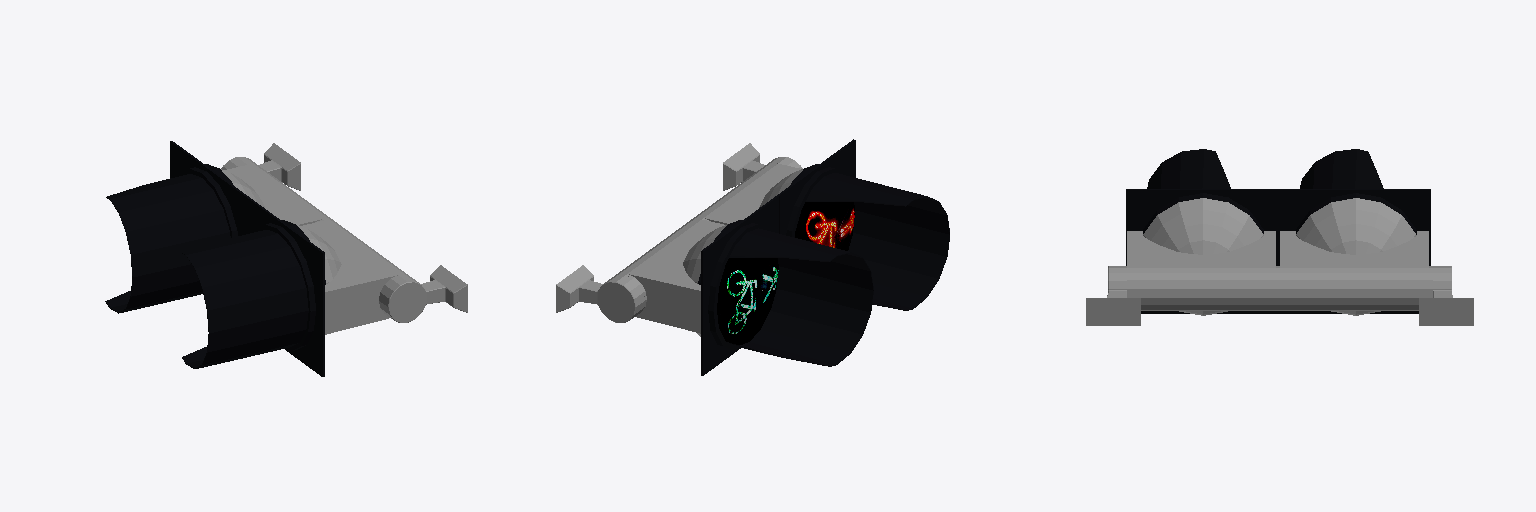
3 renders of one model, left to right at view 1: azimuth 30°, elevation 25°; view 2: azimuth 150°, elevation 25°; view 3: azimuth 270°, elevation 25°, orthographic.
Parts seen in each view (by area): view 1: Sonnenblende.002_Cylinder.002, Sonnenblende.001_Cylinder.002, Cube.004_Cube.002, Masthalterung_Cylinder.004, Blende.002_Cube.004, Cube.003_Cube.002, BezierCurve.020, Blende.001_Cube.004, Masthalterung.001_Cylinder.004, BezierCurve.018; view 2: Sonnenblende.001_Cylinder.002, Sonnenblende.002_Cylinder.002, BezierCurve.018, Cube.003_Cube.002, BezierCurve.020, Masthalterung.001_Cylinder.004, Blende.001_Cube.004, Cube.004_Cube.002, Blende.002_Cube.004, Masthalterung_Cylinder.004; view 3: Cube.003_Cube.002, Cube.004_Cube.002, BezierCurve.020, BezierCurve.018, Blende.001_Cube.004, Blende.002_Cube.004, Sonnenblende.002_Cylinder.002, Sonnenblende.001_Cylinder.002, Masthalterung.001_Cylinder.004, Masthalterung_Cylinder.004.
Part boxes in pixels (x1,y1,x2,y2): Sonnenblende.002_Cylinder.002: (182, 230, 308, 368); Sonnenblende.001_Cylinder.002: (105, 174, 230, 313); Cube.004_Cube.002: (302, 219, 409, 334); Masthalterung_Cylinder.004: (379, 265, 467, 322); Blende.002_Cube.004: (246, 196, 324, 376); Cube.003_Cube.002: (225, 163, 333, 225); BezierCurve.020: (254, 220, 341, 351); Blende.001_Cube.004: (170, 141, 247, 235); Masthalterung.001_Cylinder.004: (221, 143, 300, 190); BezierCurve.018: (177, 164, 264, 237); Sonnenblende.001_Cylinder.002: (729, 228, 873, 366); Sonnenblende.002_Cylinder.002: (806, 173, 949, 310); BezierCurve.018: (683, 220, 778, 350); Cube.003_Cube.002: (614, 219, 724, 333); BezierCurve.020: (759, 164, 854, 250); Masthalterung.001_Cylinder.004: (556, 265, 644, 322); Blende.001_Cube.004: (701, 195, 778, 375); Cube.004_Cube.002: (690, 163, 800, 224); Blende.002_Cube.004: (778, 139, 855, 234); Masthalterung_Cylinder.004: (723, 143, 802, 190); Cube.003_Cube.002: (1280, 231, 1432, 310); Cube.004_Cube.002: (1127, 231, 1279, 310); BezierCurve.020: (1143, 193, 1263, 315); BezierCurve.018: (1296, 193, 1416, 315); Blende.001_Cube.004: (1278, 189, 1430, 313); Blende.002_Cube.004: (1126, 189, 1277, 313); Sonnenblende.002_Cylinder.002: (1147, 149, 1230, 188); Sonnenblende.001_Cylinder.002: (1300, 149, 1383, 188); Masthalterung.001_Cylinder.004: (1419, 266, 1473, 325); Masthalterung_Cylinder.004: (1086, 266, 1140, 325).
Size of the model in its own units: 0.4823 by 0.2502 by 0.7067.
4 materials, 4 textured.